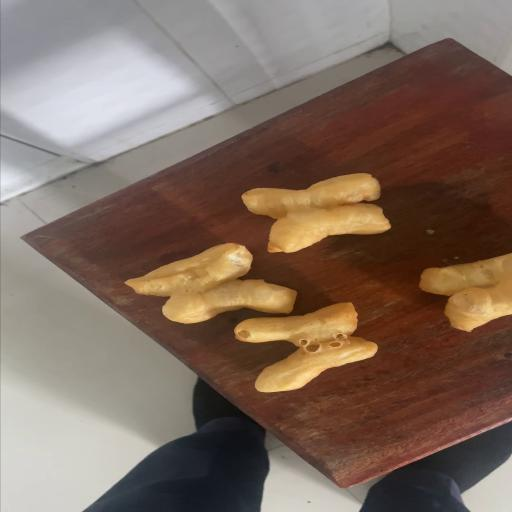street_golden_defect: (124, 244, 296, 322), (233, 303, 378, 391)
street_golden_good: (244, 173, 388, 252), (421, 254, 512, 330)
